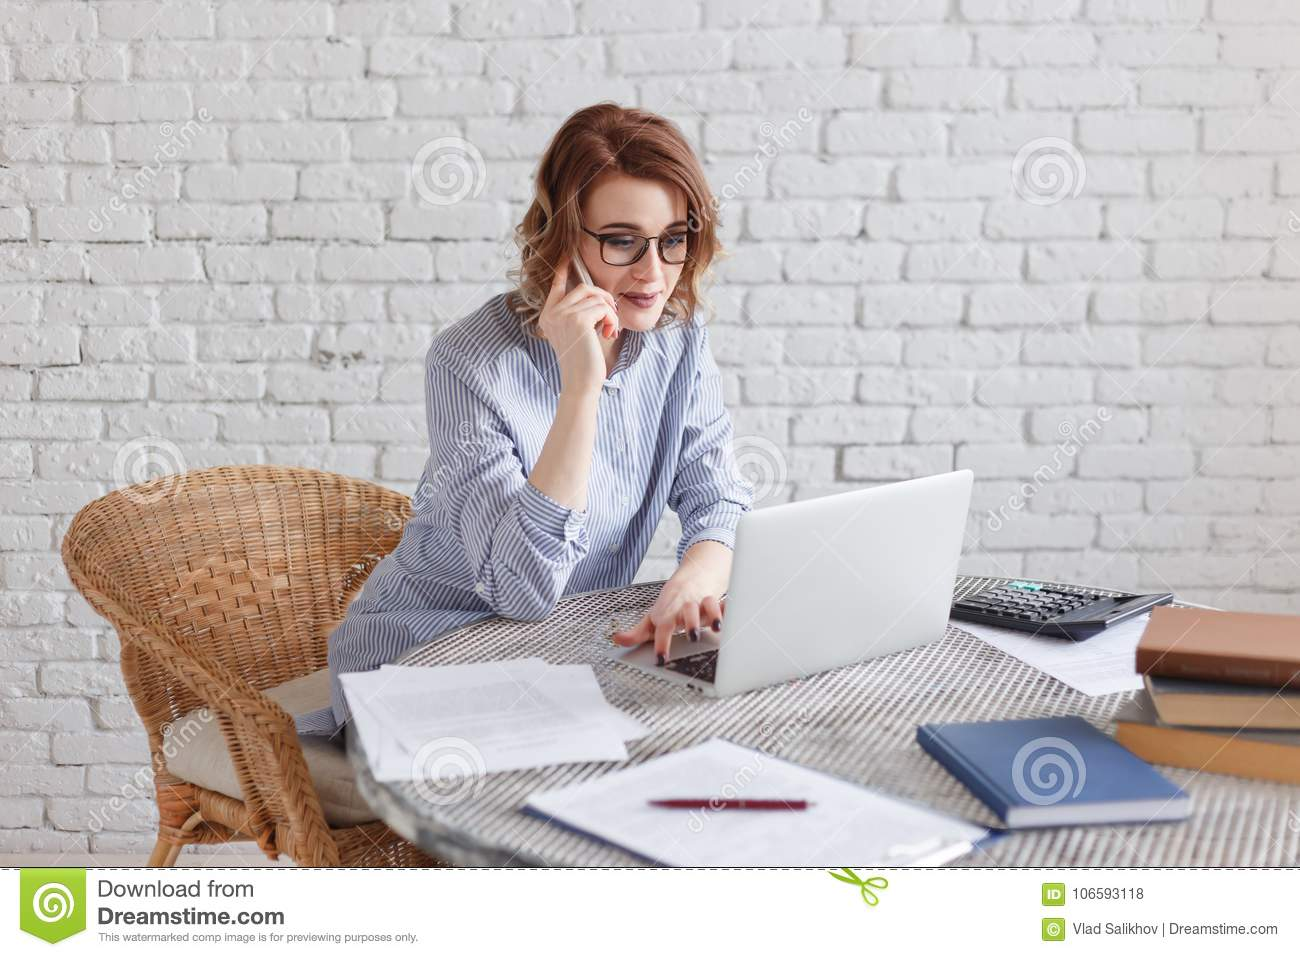phone: (551, 229, 604, 339)
talk: (539, 207, 687, 412)
